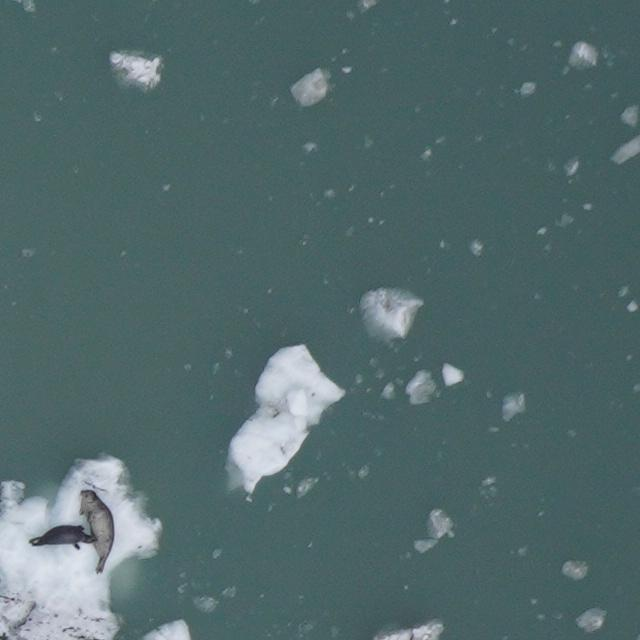seal: (75, 484, 118, 578), (23, 522, 101, 554)
